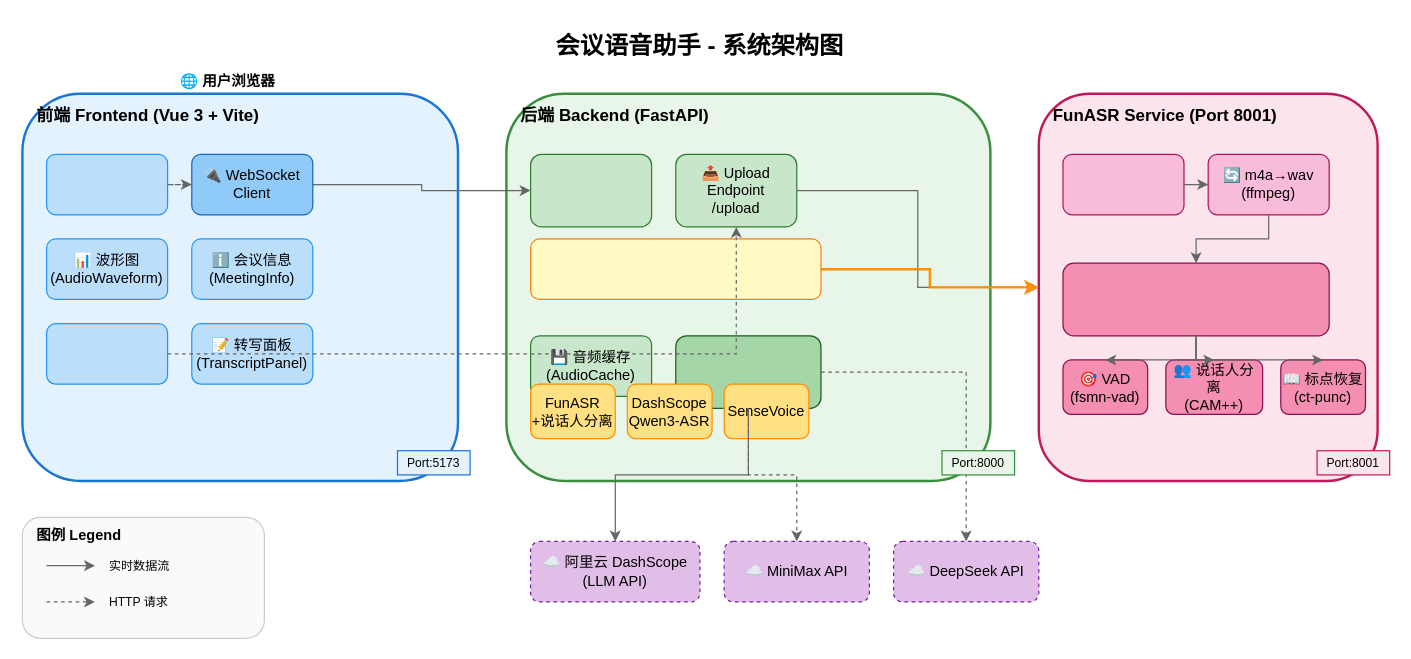
Some shapes in this 1411 by 659 pixel diagram are drawn without their labels. The shapes that lost their labels are listed below. From the top down, each one's centre as x and y in pixels, then its label:
At [106,184]: "🎤 麦克风 (MediaRecorder)".
At [590,190]: "🌐 WebSocket Endpoint /ws/voice".
At [1123,184]: "🔌 API Router /recognize".
At [675,268]: "⚙️ ASR Factory".
At [1195,299]: "🧠 FunASR Model Paraformer + CAM++".
At [106,353]: "📁 文件上传 (FileUploader)".
At [748,371]: "🤖 LLM 分析器 (LLMAnalyzer) qwen-plus / minimax".
